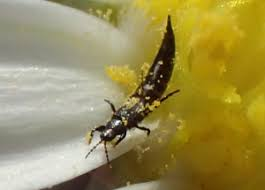Phlaeothripidae: (84, 13, 183, 169)
